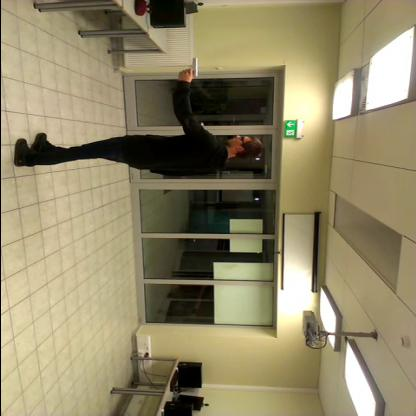Pistol: (174, 55, 204, 77)
